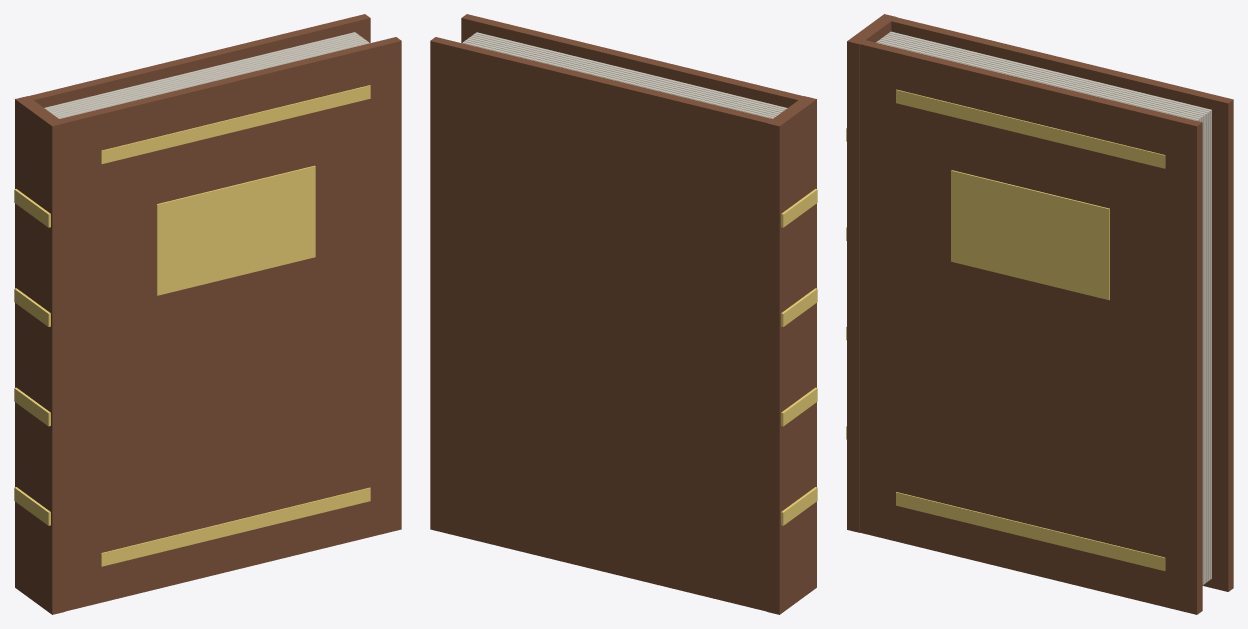
The model's file is livre-ouverture.glb.
3 views of the same model, side by side, from view 1: azimuth 30°, elevation 25°; view 2: azimuth 150°, elevation 25°; view 3: azimuth 330°, elevation 25° (orthographic).
Parts seen in each view (by area): view 1: LA_Couv_Avant, LA_Dos, LA_Plaque_Titre, LA_Couv_Arriere, LA_Cadre_Or, LA_Cadre_Or_B, LA_Page_08, LA_Page_09, LA_Page_06, LA_Page_10, LA_Page_11, LA_Page_12 (+5 smaller); view 2: LA_Couv_Arriere, LA_Dos, LA_Couv_Avant, LA_Page_01, LA_Page_02, LA_Page_06, LA_Page_07, LA_Page_03, LA_Page_04, LA_Page_05, LA_Nervure_0, LA_Nervure_1 (+2 smaller); view 3: LA_Couv_Avant, LA_Couv_Arriere, LA_Plaque_Titre, LA_Dos, LA_Cadre_Or, LA_Cadre_Or_B, LA_Page_09, LA_Page_10, LA_Page_08, LA_Page_12, LA_Page_11, LA_Page_07 (+1 smaller).
Boxes of the visible parts, x1,y1,x2,y2 form: LA_Couv_Avant: (57,37,401,611); LA_Dos: (15,96,64,614); LA_Plaque_Titre: (156,165,315,295); LA_Couv_Arriere: (25,14,370,107); LA_Cadre_Or: (101,85,370,164); LA_Cadre_Or_B: (101,487,370,566); LA_Page_08: (52,38,365,115); LA_Page_09: (50,36,362,113); LA_Page_06: (57,41,369,118); LA_Page_10: (48,35,360,112); LA_Page_11: (46,33,358,110); LA_Page_12: (44,32,356,109); LA_Couv_Arriere: (430,37,775,611); LA_Dos: (767,96,816,614); LA_Couv_Avant: (461,14,803,107); LA_Page_01: (475,32,787,109); LA_Page_02: (473,33,784,110); LA_Page_06: (464,40,776,117); LA_Page_07: (462,41,774,118); LA_Page_03: (471,35,782,112); LA_Page_04: (469,37,780,114); LA_Page_05: (466,38,778,115); LA_Nervure_0: (781,487,817,525); LA_Nervure_1: (781,387,817,426); LA_Couv_Avant: (859,39,1202,614); LA_Couv_Arriere: (888,16,1233,591); LA_Plaque_Titre: (951,170,1109,300); LA_Dos: (847,14,896,532); LA_Cadre_Or: (896,89,1165,168); LA_Cadre_Or_B: (896,492,1165,570); LA_Page_09: (883,36,1205,584); LA_Page_10: (885,34,1207,582); LA_Page_08: (881,37,1203,584); LA_Page_12: (889,31,1211,579); LA_Page_11: (887,33,1209,581); LA_Page_07: (878,39,1201,121).
Size of the model in its own units: 0.2225 by 0.295 by 0.0413.
